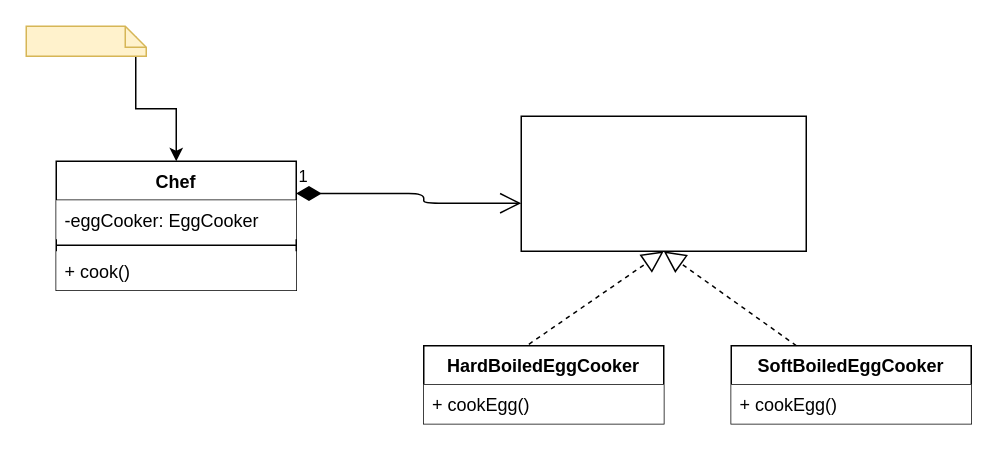
This 998x455 diagram has some shape labels left out. The shapes that lost their labels are listed below. From the top down, each one's centre as x and y in pixels, then its label:
At (85,40): "Context".
At (663,183): "<<Interface>> EggCooker + cook()".
